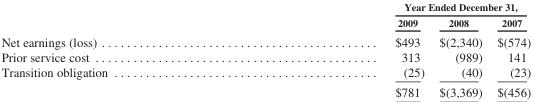table: (0, 1, 530, 99)
table column: (0, 1, 250, 99), (250, 1, 431, 99), (431, 1, 489, 99), (489, 1, 530, 99)
table column header: (0, 1, 530, 31)
table row: (0, 31, 530, 49), (0, 81, 530, 99), (0, 14, 530, 31), (0, 64, 530, 81), (0, 49, 530, 64), (0, 1, 530, 14)
table spanning cell: (250, 1, 530, 14)
